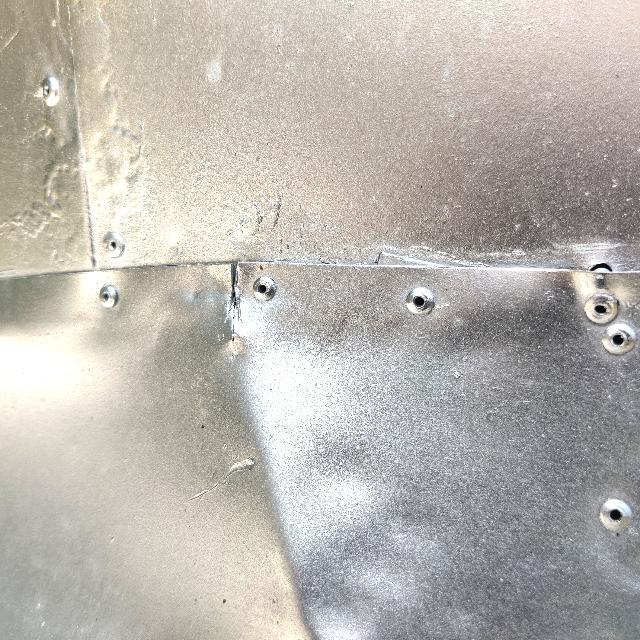dent: (198, 348, 384, 640)
